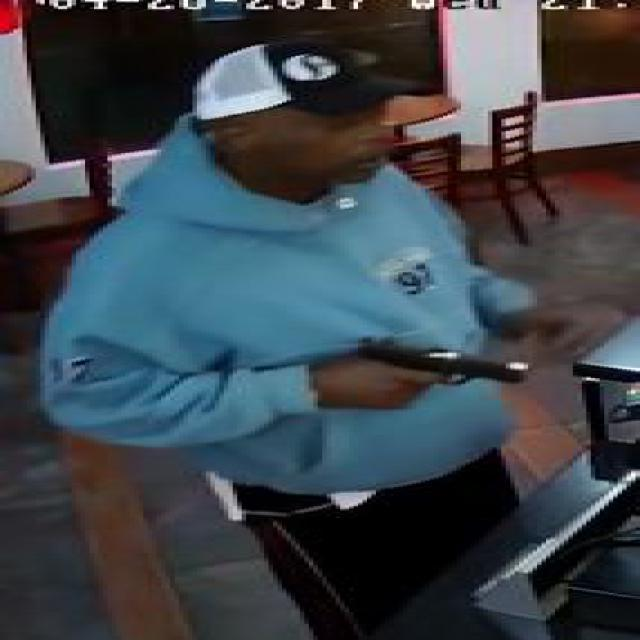Gun: (340, 338, 533, 406)
